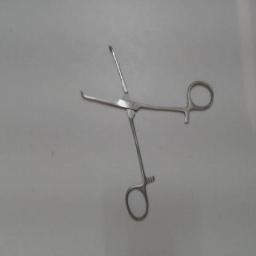Allis Tissue Forceps: (72, 36, 216, 224)
